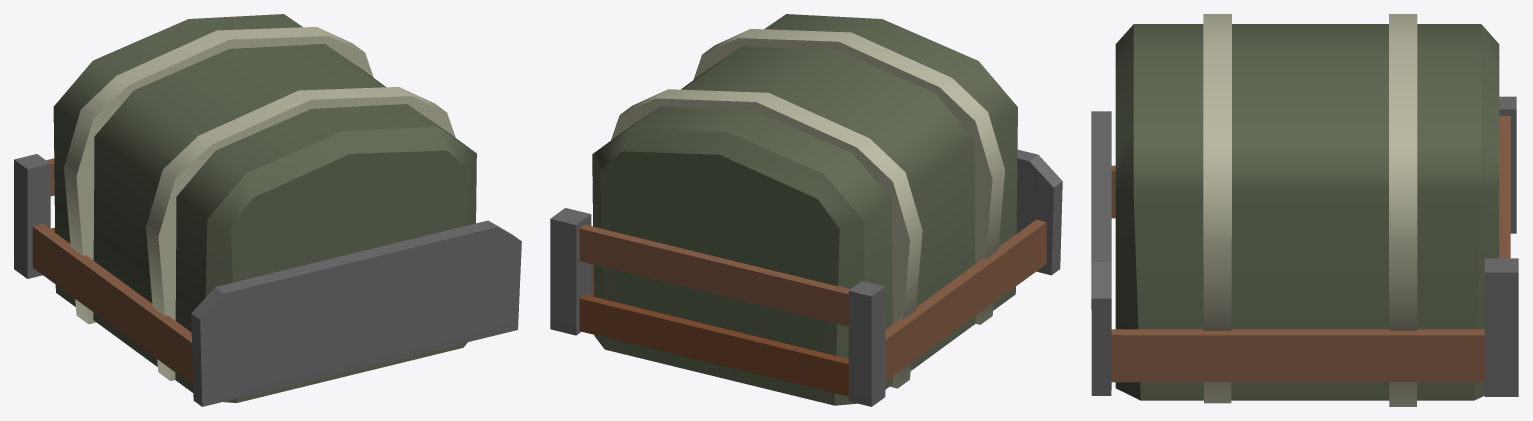
Rendered from cargo_00_A_2.fbx.
The picture shows the model from 3 angles, left to right: view 1: azimuth 30°, elevation 25°; view 2: azimuth 150°, elevation 25°; view 3: azimuth 270°, elevation 25°; orthographic projection. The views are drawn at different scales.
Visible parts, largest first — view 1: cargo_00_A_2; view 2: cargo_00_A_2; view 3: cargo_00_A_2.
Boxes of the visible parts, <box> form: cargo_00_A_2: <box>14,14,521,406</box>; cargo_00_A_2: <box>550,14,1062,406</box>; cargo_00_A_2: <box>1091,14,1518,406</box>.
Size of the model in its own units: 12.23 by 9.11 by 12.42.
